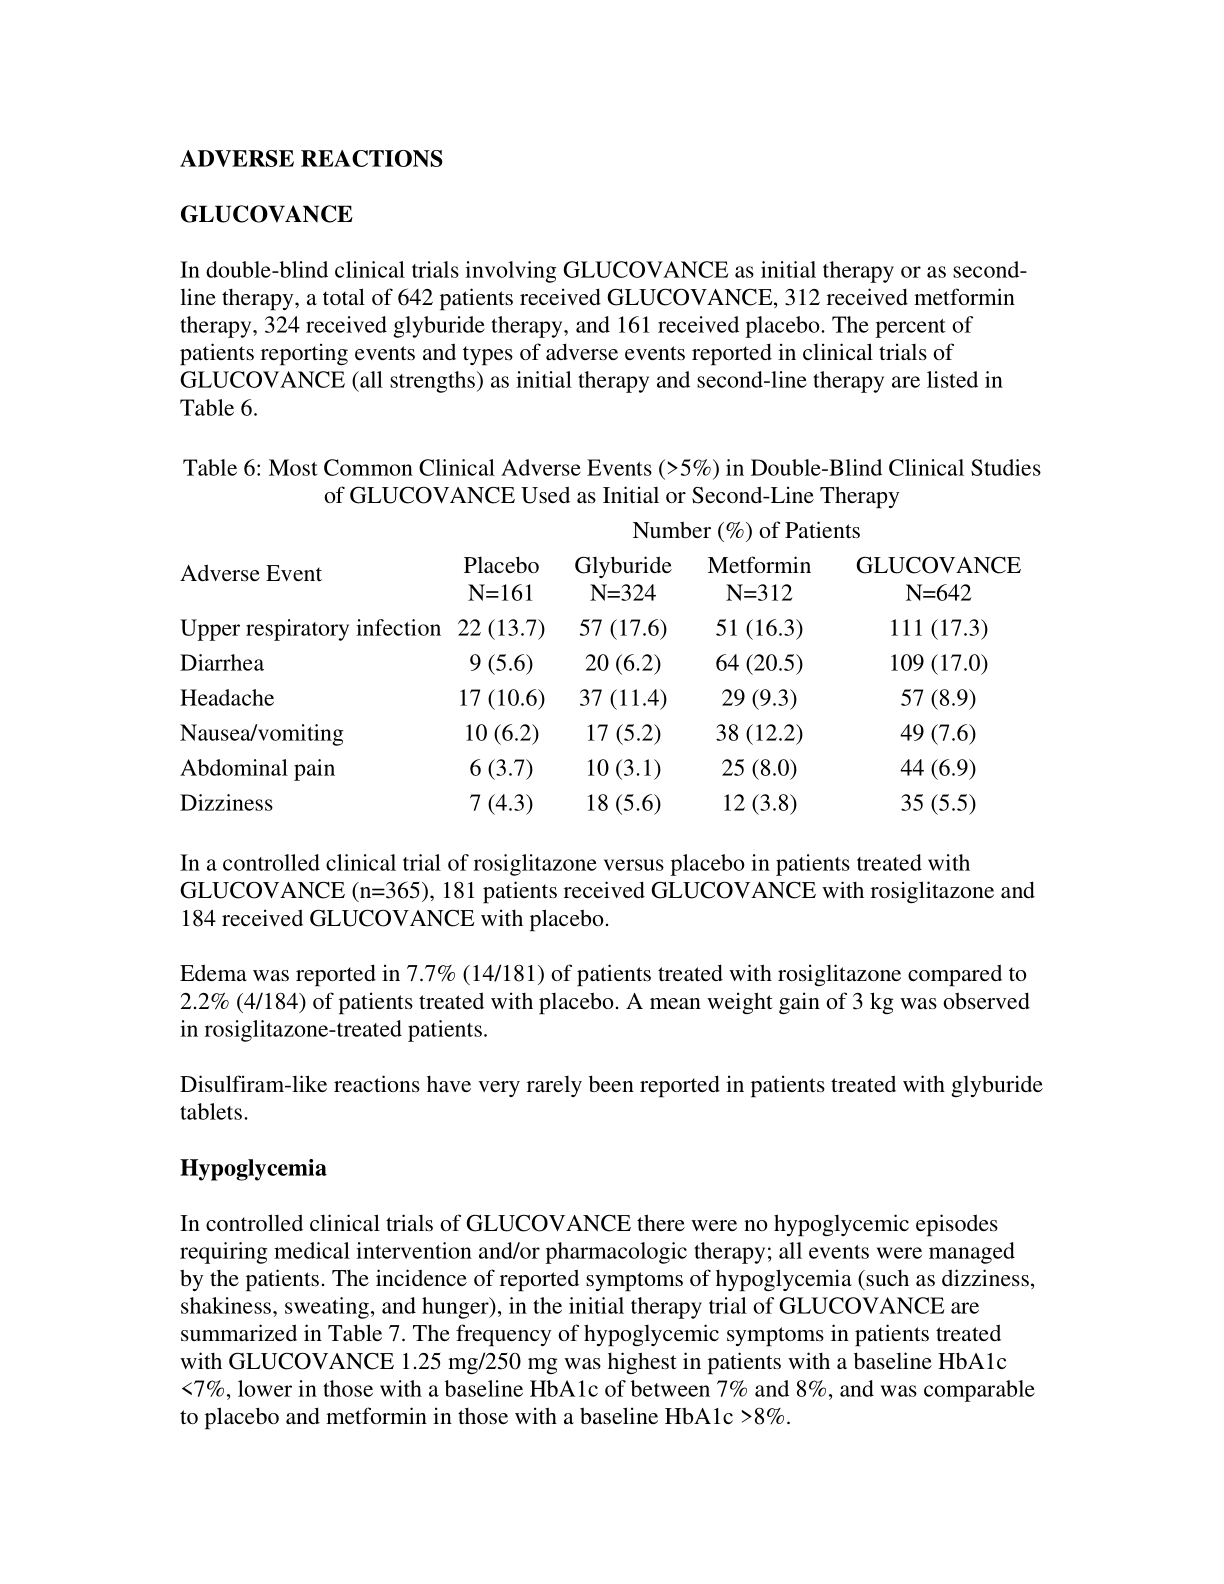nolines: (177, 516, 1023, 816)
